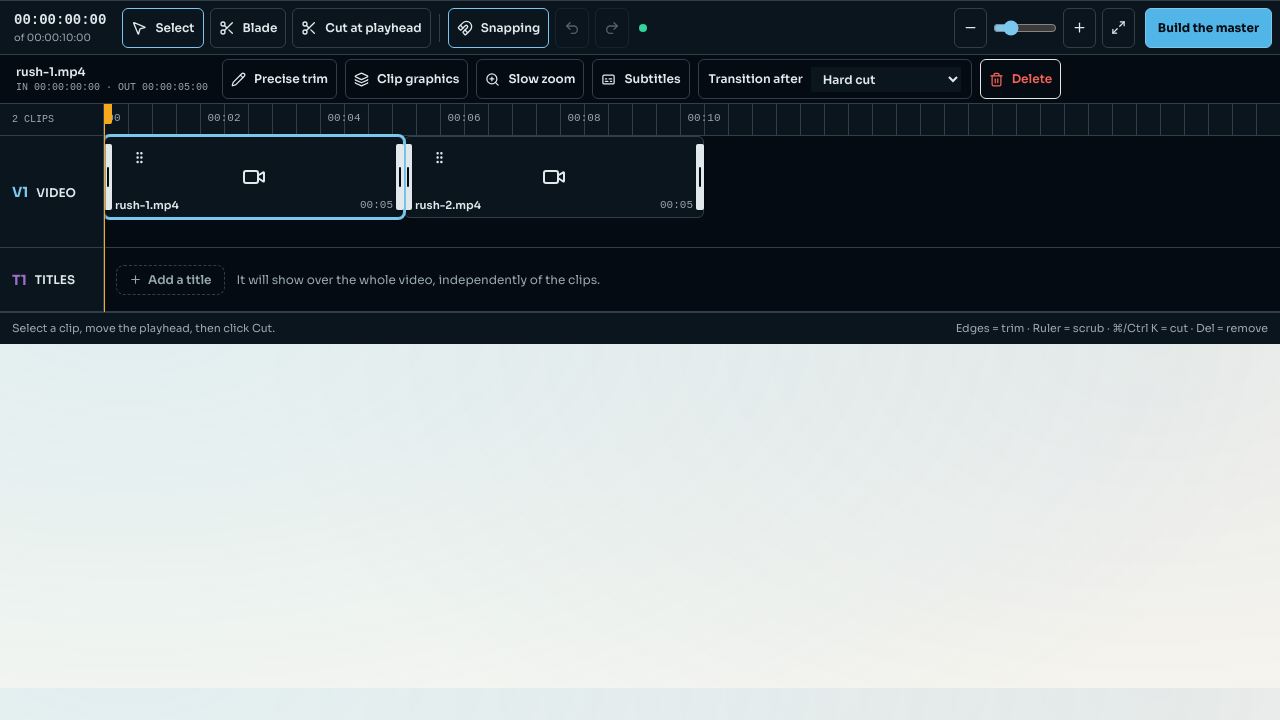
ce qu’un lecteur d’écran annonce › nomme un titre dans la langue choisie
Step 1. Click the button "Add a title" → (170, 280), box [116,264,224,294]
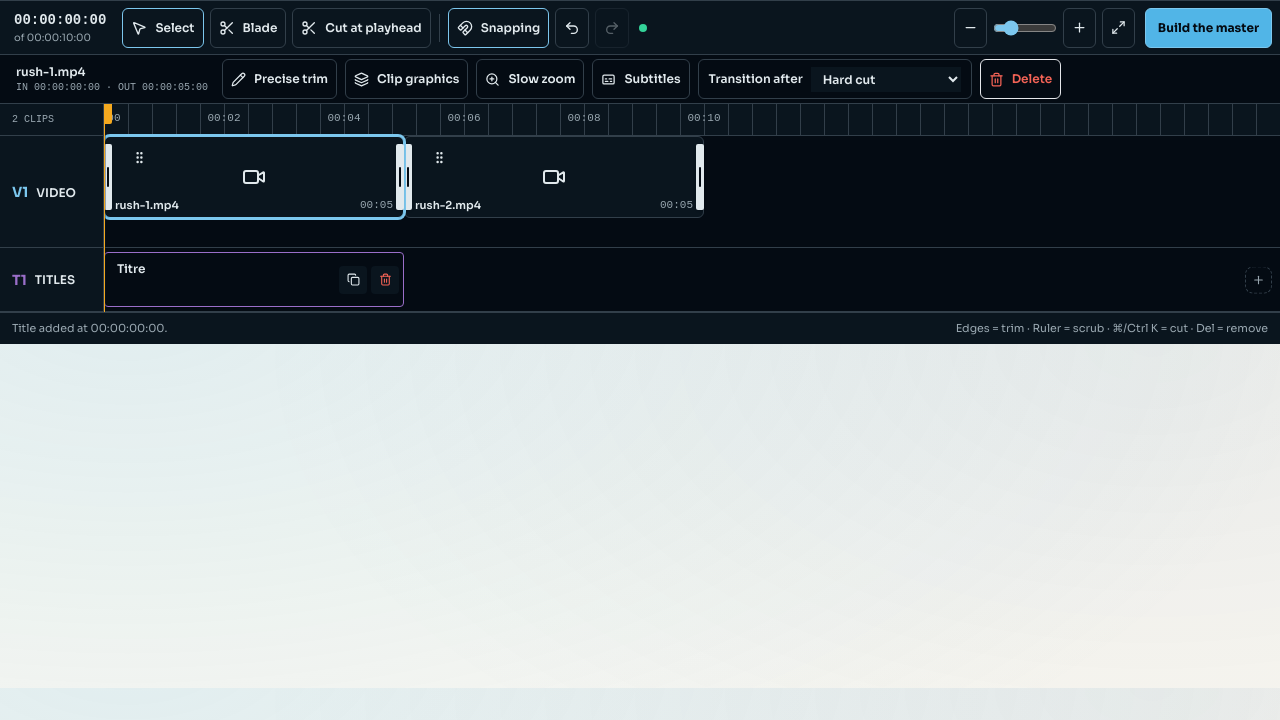
Now the button labelled "Titre" is shown, box [104,252,404,307]
